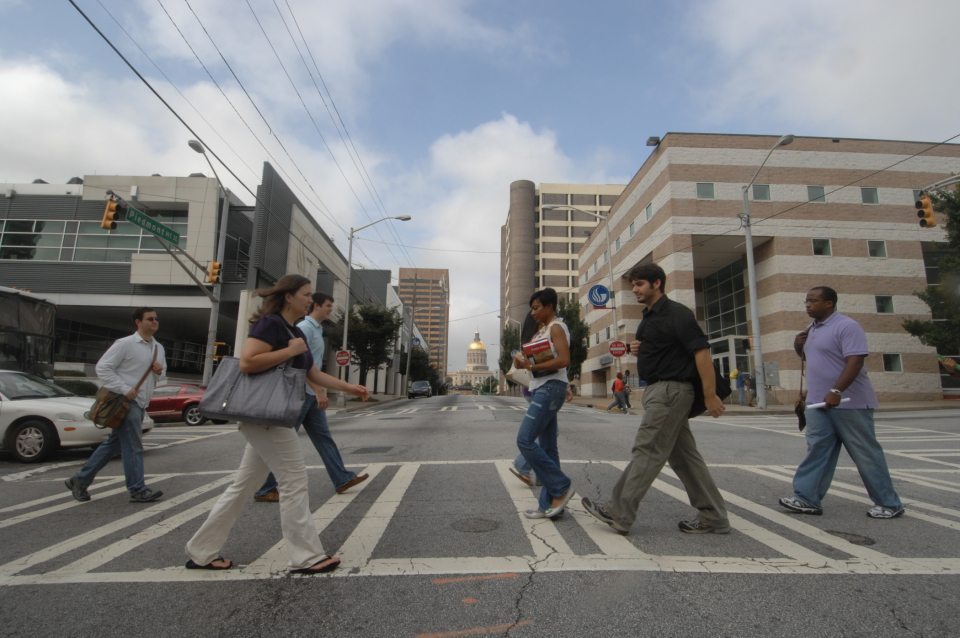pedestrian: (173, 270, 345, 584), (591, 255, 741, 542), (768, 276, 909, 524), (490, 277, 585, 529), (71, 306, 172, 506)
